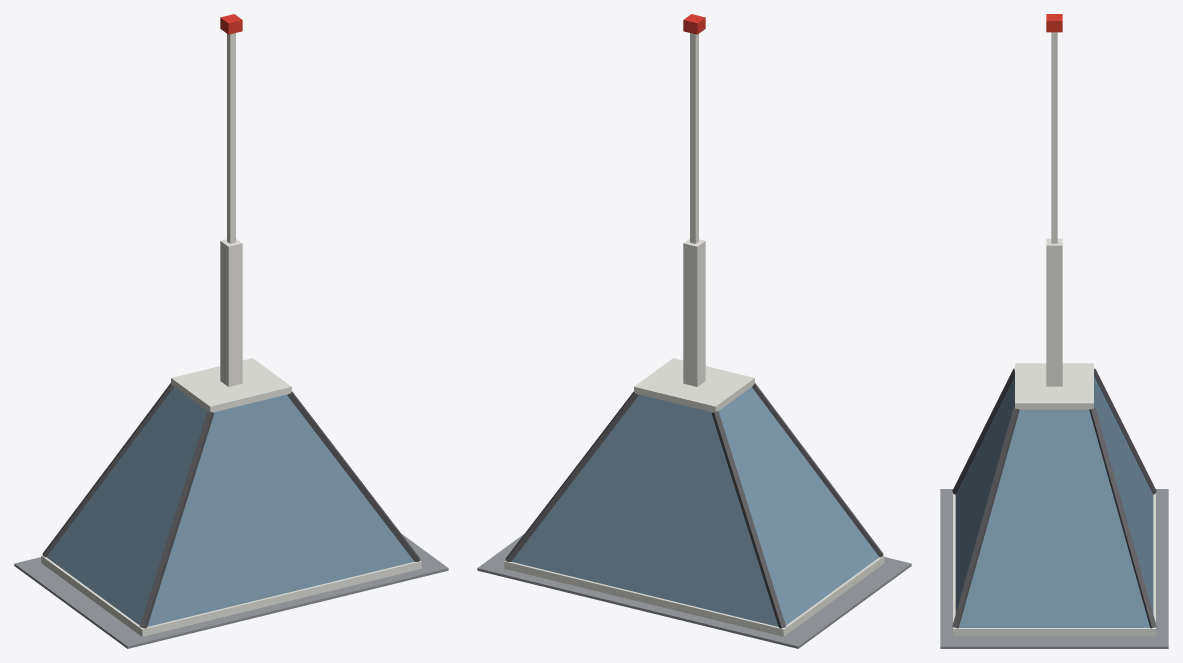
Rendered from crown_spire.glb.
The picture shows the model from 3 angles, left to right: view 1: azimuth 30°, elevation 25°; view 2: azimuth 150°, elevation 25°; view 3: azimuth 270°, elevation 25°; orthographic projection.
Parts seen in each view (by area): view 1: crown_spire; view 2: crown_spire; view 3: crown_spire.
Boxes of the visible parts, <box> form: crown_spire: <box>14,14,448,648</box>; crown_spire: <box>477,14,911,648</box>; crown_spire: <box>940,14,1168,648</box>.
Size of the model in its own units: 20.6 by 33.7 by 12.6.
